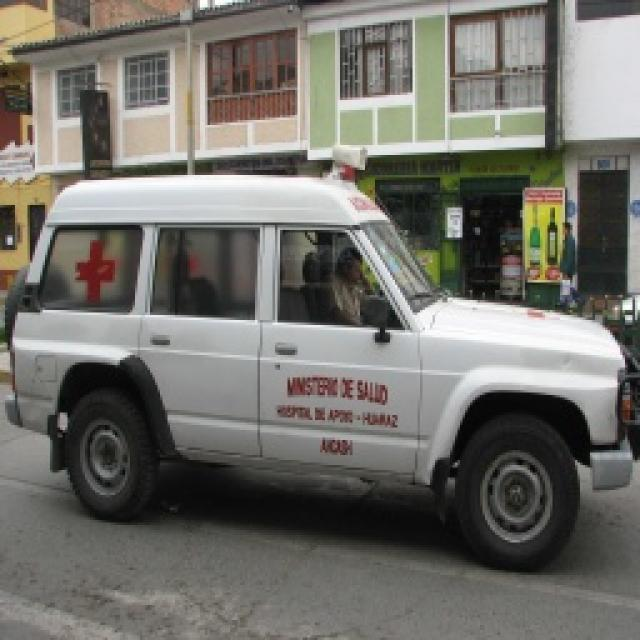emergency-vehicle: (2, 157, 632, 561)
